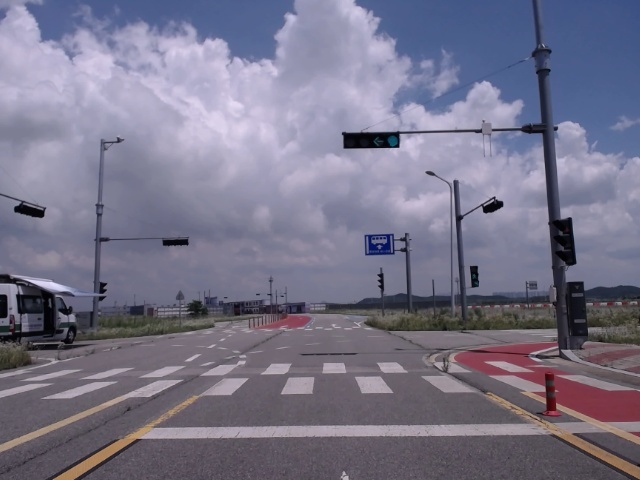all_green_4: (342, 131, 402, 148)
